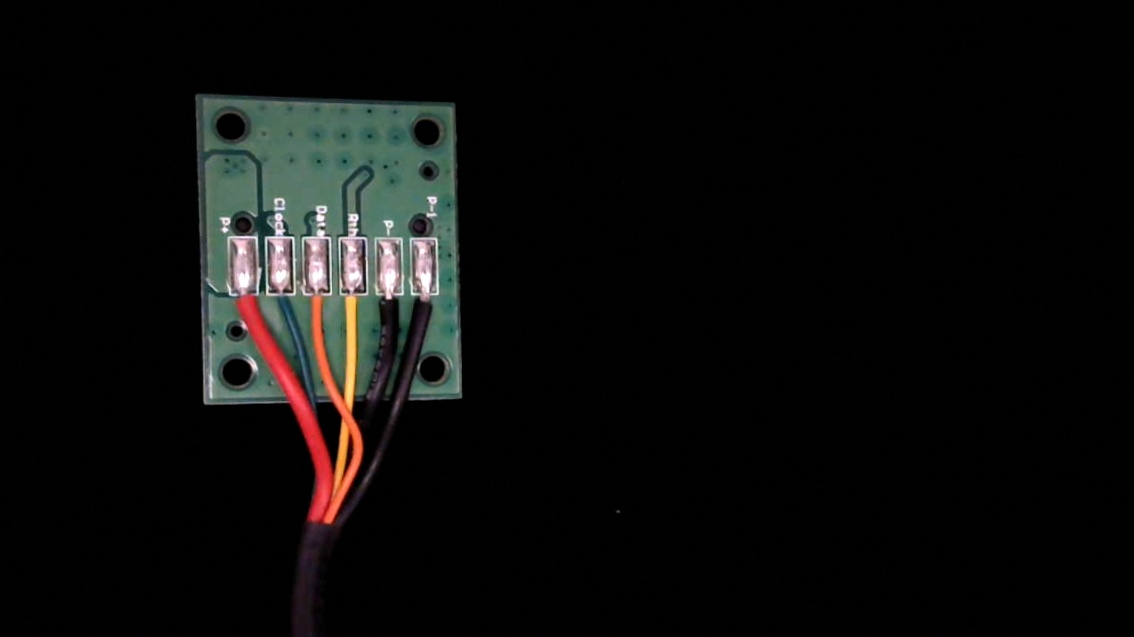Black: (372, 277, 404, 344)
Black1: (411, 279, 442, 340)
Green: (263, 276, 295, 339)
Orange: (304, 276, 334, 341)
Red: (228, 274, 259, 337)
Yellow: (337, 276, 369, 343)
